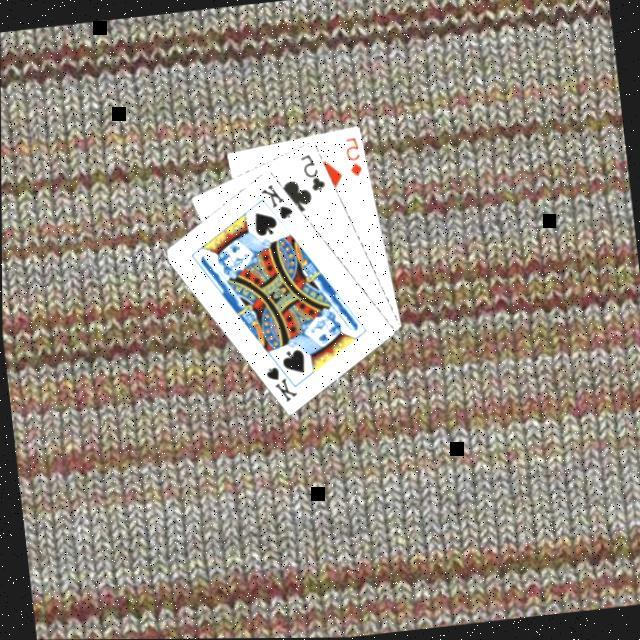5C: (295, 151, 327, 198)
5D: (339, 135, 364, 182)
KS: (259, 355, 300, 408), (255, 180, 294, 226)
